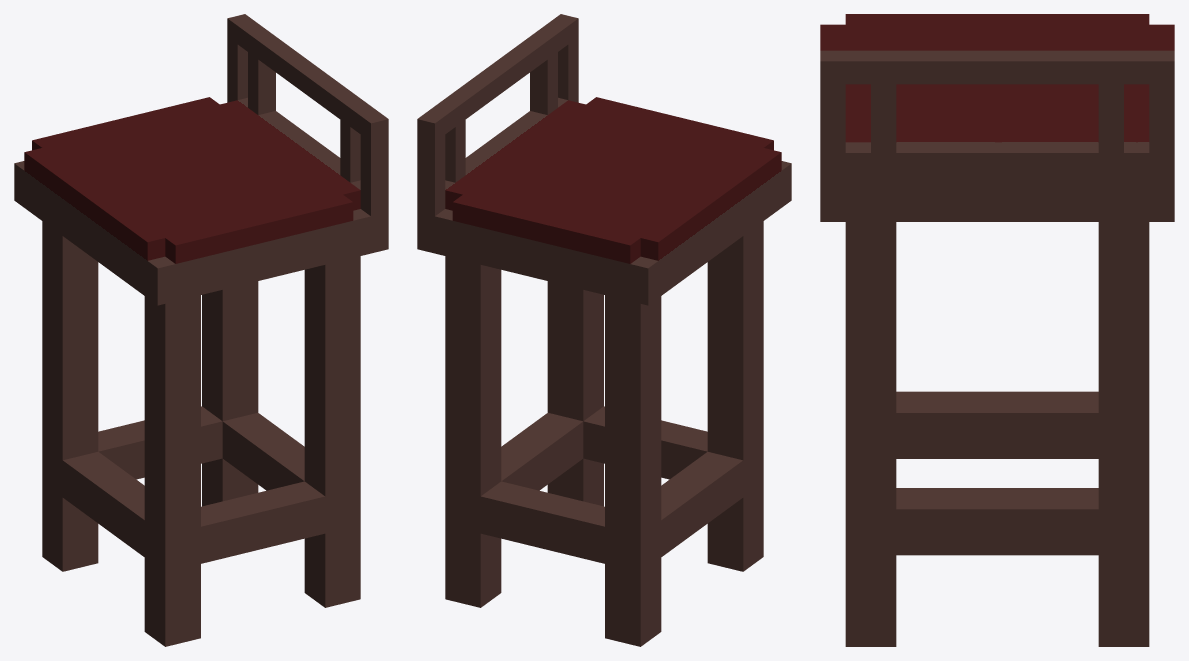
The model's file is krzeselko_bar.dae.
The picture shows the model from 3 angles, left to right: view 1: azimuth 30°, elevation 25°; view 2: azimuth 150°, elevation 25°; view 3: azimuth 270°, elevation 25°; orthographic projection. The views are drawn at different scales.
Parts seen in each view (by area): view 1: Content; view 2: Content; view 3: Content.
Part boxes in pixels (x1=…): Content: x1=14, y1=14, x2=388, y2=646; Content: x1=417, y1=14, x2=791, y2=646; Content: x1=820, y1=14, x2=1174, y2=646.
Size of the model in its own units: 13 by 26 by 14.
Materials: 1 (1 with a texture image).
